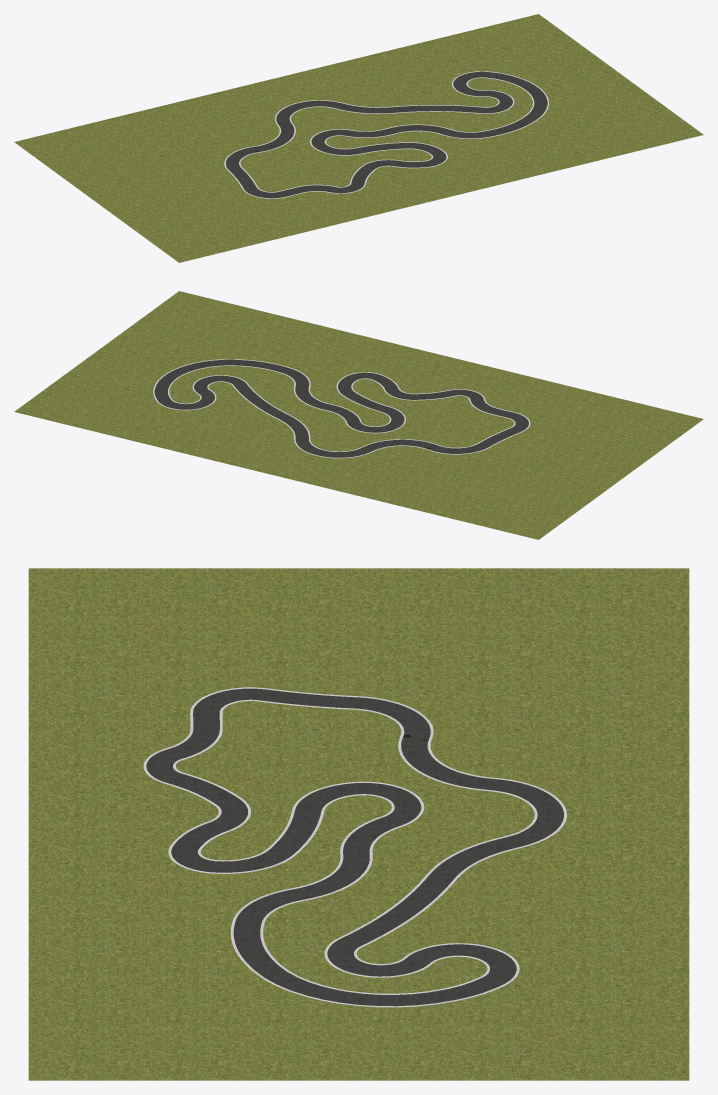
The model's file is track17.dae.
3 renders of one model, top to bottom at view 1: azimuth 30°, elevation 25°; view 2: azimuth 150°, elevation 25°; view 3: azimuth 270°, elevation 25°, orthographic. The views are drawn at different scales.
Parts seen in each view (by area): view 1: field, road, outerline, innerline; view 2: field, road, outerline, innerline; view 3: field, road, outerline, innerline.
Part boxes in pixels (<box>): field: <box>14,14,703,262</box>; road: <box>226,71,547,198</box>; outerline: <box>224,71,548,198</box>; innerline: <box>239,77,534,192</box>; field: <box>14,291,703,539</box>; road: <box>154,359,528,457</box>; outerline: <box>153,359,530,458</box>; innerline: <box>168,365,515,451</box>; field: <box>28,568,689,1080</box>; road: <box>146,688,563,1006</box>; outerline: <box>143,687,566,1007</box>; innerline: <box>173,699,537,994</box>.
Bounding box in the file's own units: 74.83 × 40.8 × 0.01.
Materials: 3 (3 with a texture image).
